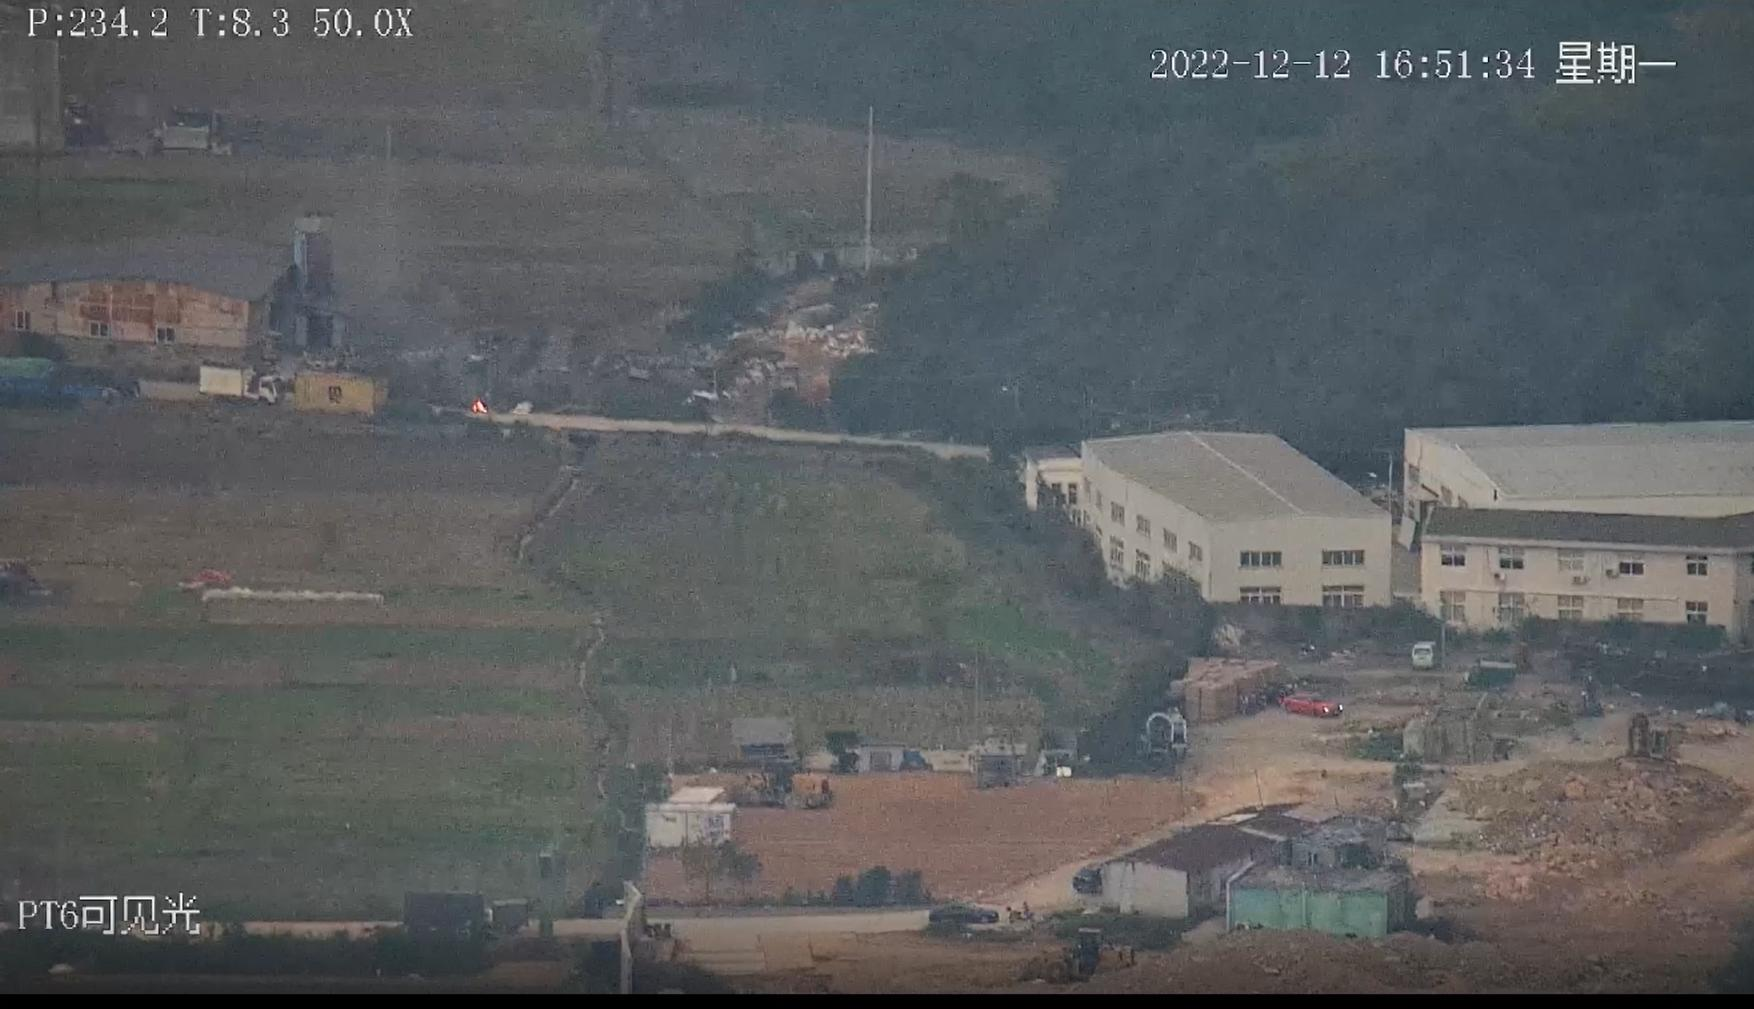Fire: (470, 398, 490, 415)
